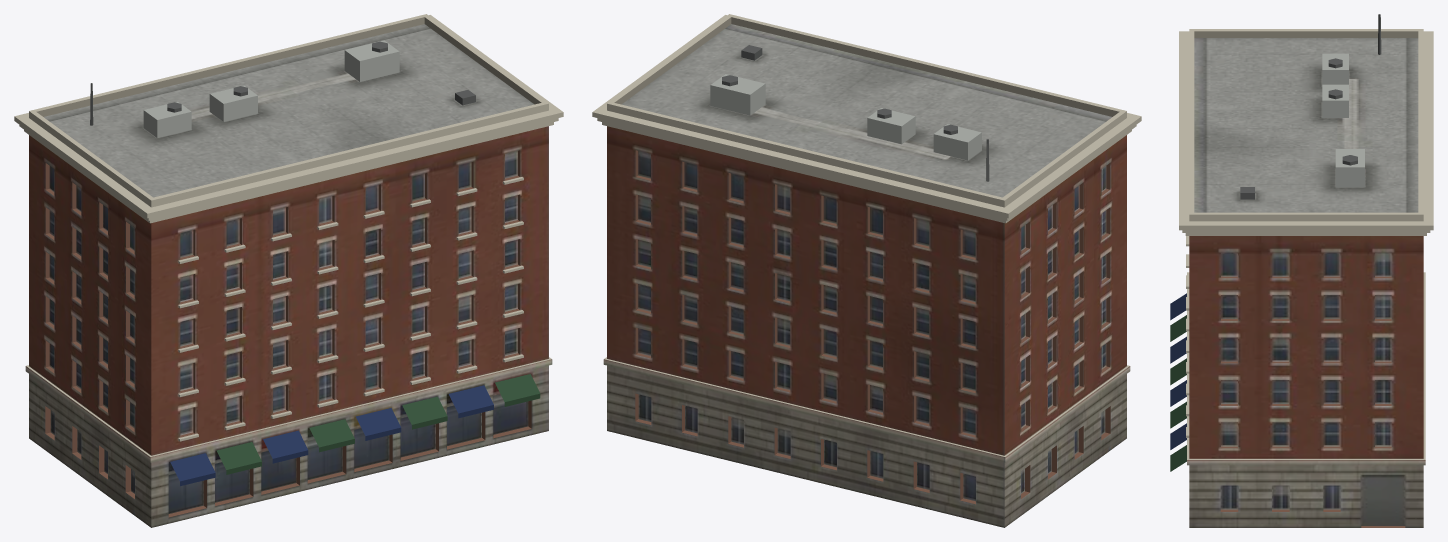
The model's file is dc_brick_corner_c.glb.
3 renders of one model, left to right at view 1: azimuth 30°, elevation 25°; view 2: azimuth 150°, elevation 25°; view 3: azimuth 270°, elevation 25°, orthographic. The views are drawn at different scales.
Parts seen in each view (by area): view 1: dc_brick_corner_c; view 2: dc_brick_corner_c; view 3: dc_brick_corner_c.
Boxes of the visible parts, <box> form: dc_brick_corner_c: <box>14,14,563,527</box>; dc_brick_corner_c: <box>592,14,1141,527</box>; dc_brick_corner_c: <box>1170,14,1433,527</box>.
Bounding box in the file's own units: 31.4 × 26.1 × 18.
1 material, 1 textured.
